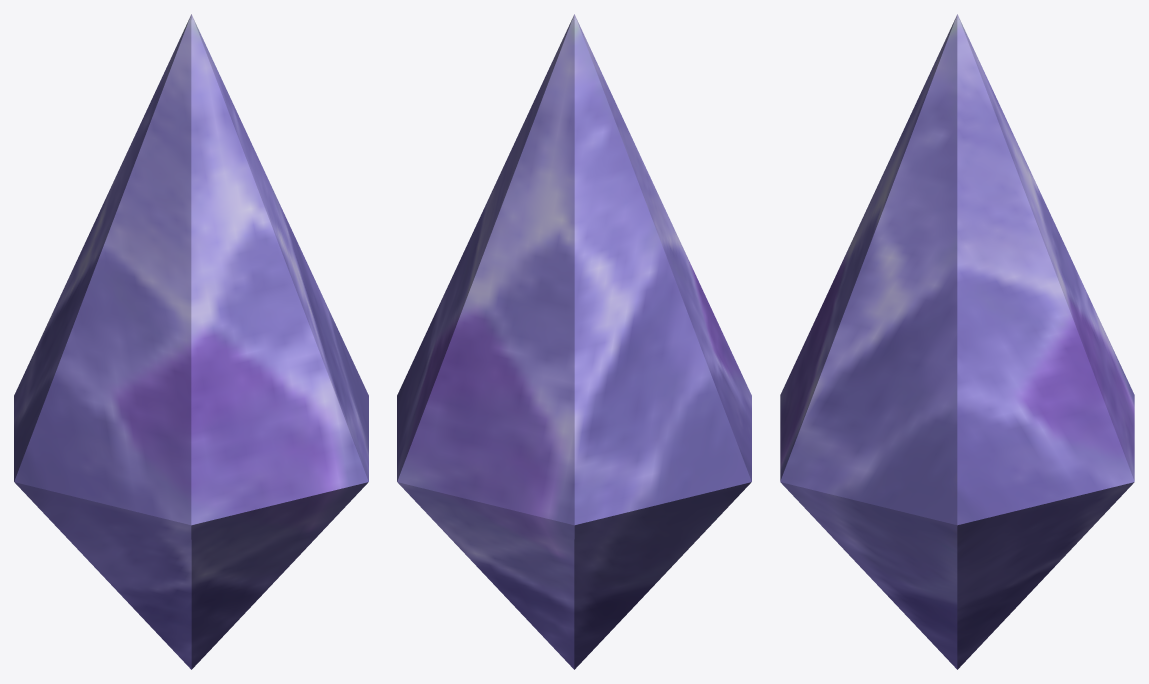
Rendered from building_city_jiaotangzhuzi04_shuijing.FBX.
The picture shows the model from 3 angles, left to right: view 1: azimuth 30°, elevation 25°; view 2: azimuth 150°, elevation 25°; view 3: azimuth 270°, elevation 25°; orthographic projection.
Parts seen in each view (by area): view 1: Object03; view 2: Object03; view 3: Object03.
Part boxes in pixels (<box>): Object03: <box>14,14,368,669</box>; Object03: <box>397,14,751,669</box>; Object03: <box>780,14,1134,669</box>.
Size of the model in its own units: 2.44 by 4.3 by 2.11.
